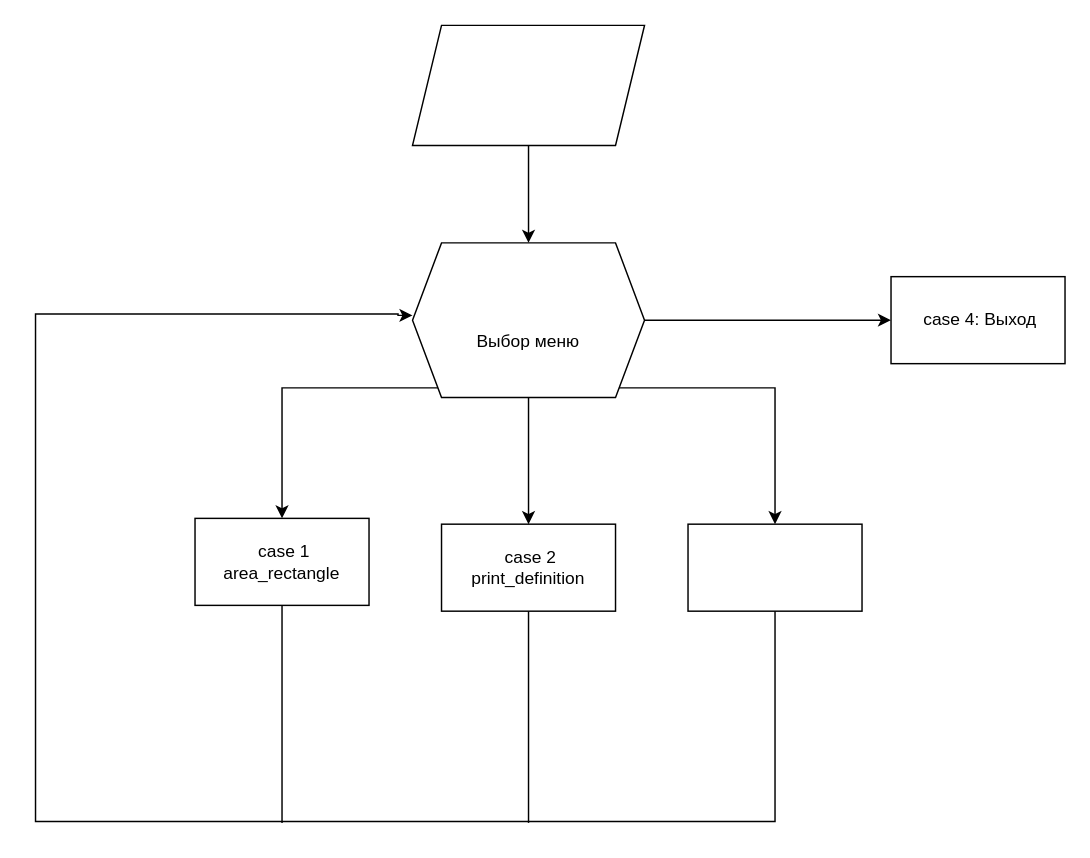
The diagram is 1090 pixels wide and 858 high, and some of its shapes have lost their labels. The centre of each missing label's shape, as x and y in pixels:
case 3 draw_rectangle: point (774, 567)
Ввод width, height: point (528, 84)
